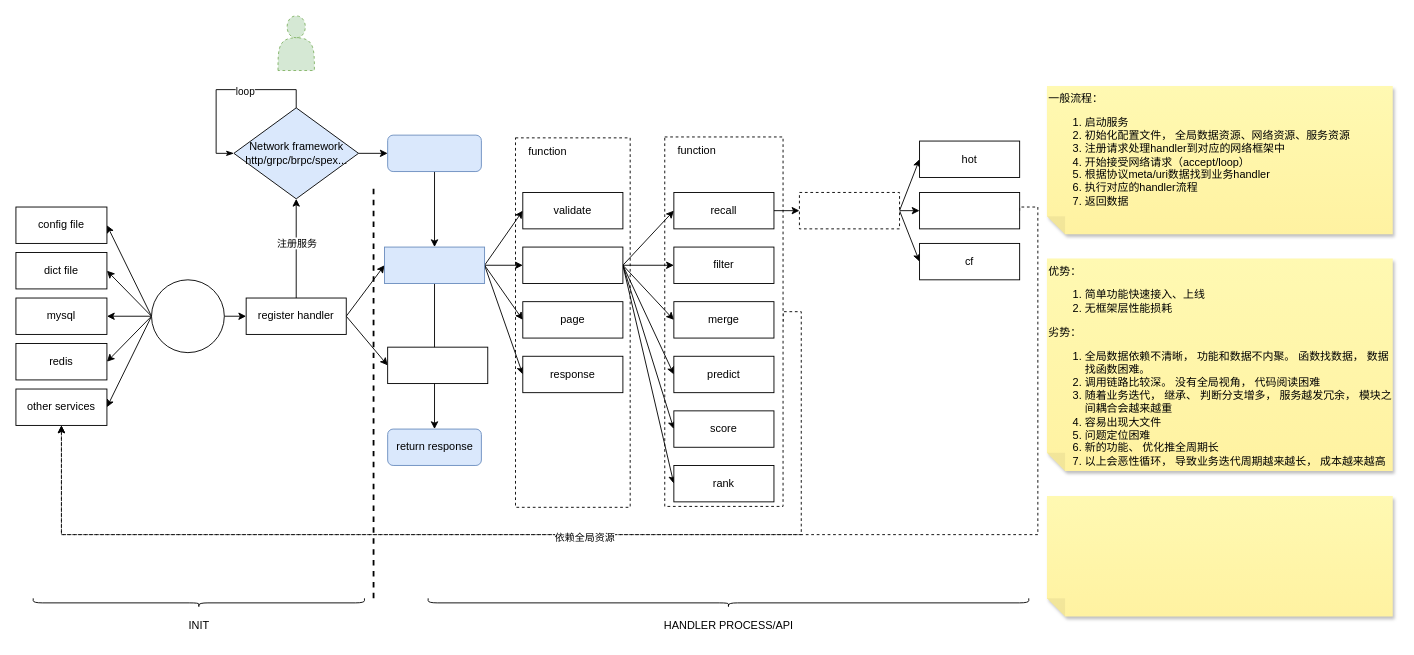
Image size: 1414x655. Some labels were removed from this diagram. Each missing label, with the centre of its shape:
global resources init: [187,316]
item list: [572,264]
recall inteface: [849,210]
recommend list: [437,365]
request: [434,153]
search list: [434,264]
vector: [969,210]
适合： 适合功能单一， 迭代低频的服务。 如召回、向量检索、特征服务、参数服务、存储等: [1220,557]
